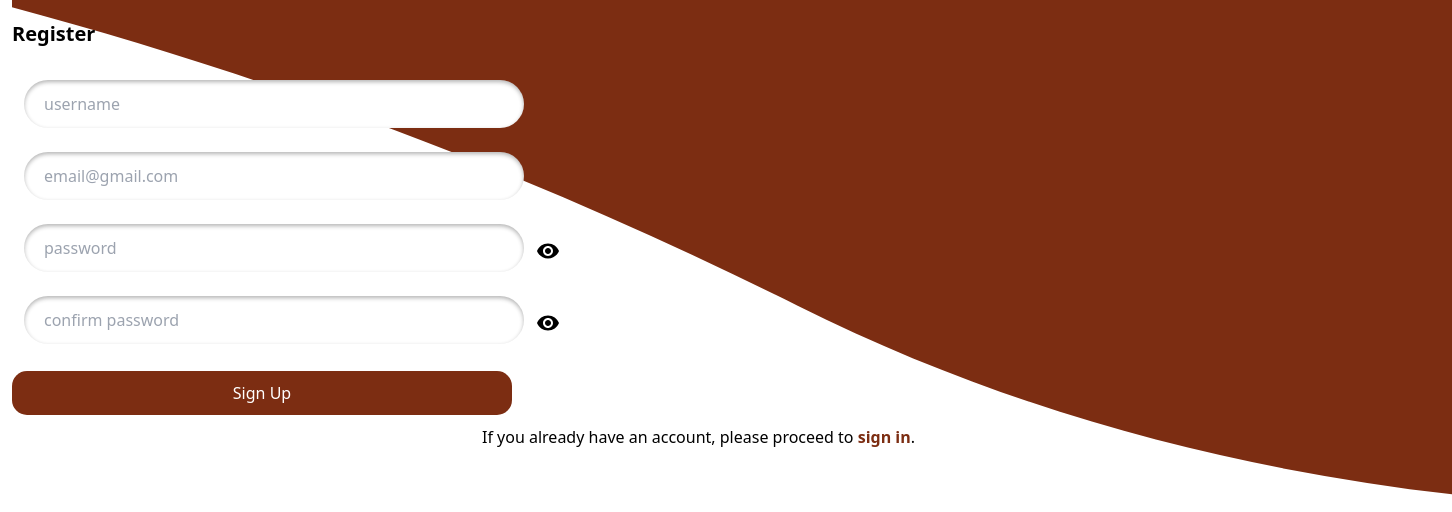
Signup page › can render error message if receive error response from backend
Note: type in valid data and click submit button
Type "ji" into the field with placeholder "username" at (274, 104), box [24,80,524,128]
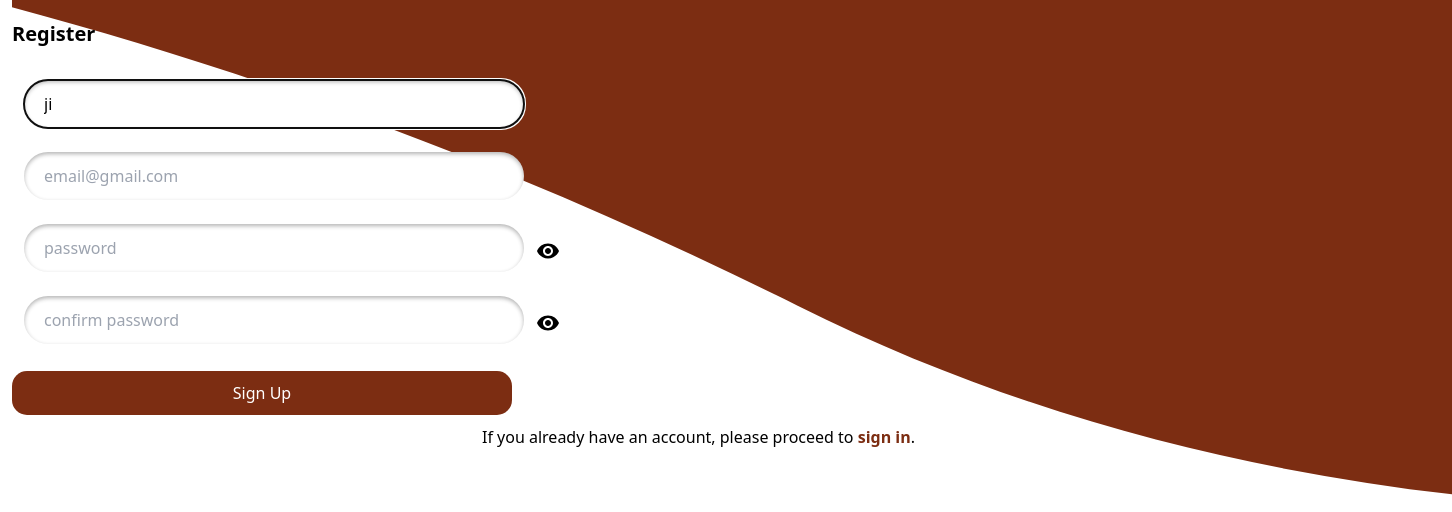
Type "ji@gmail.com" into the field with placeholder "email@gmail.com" at (274, 176), box [24,152,524,200]
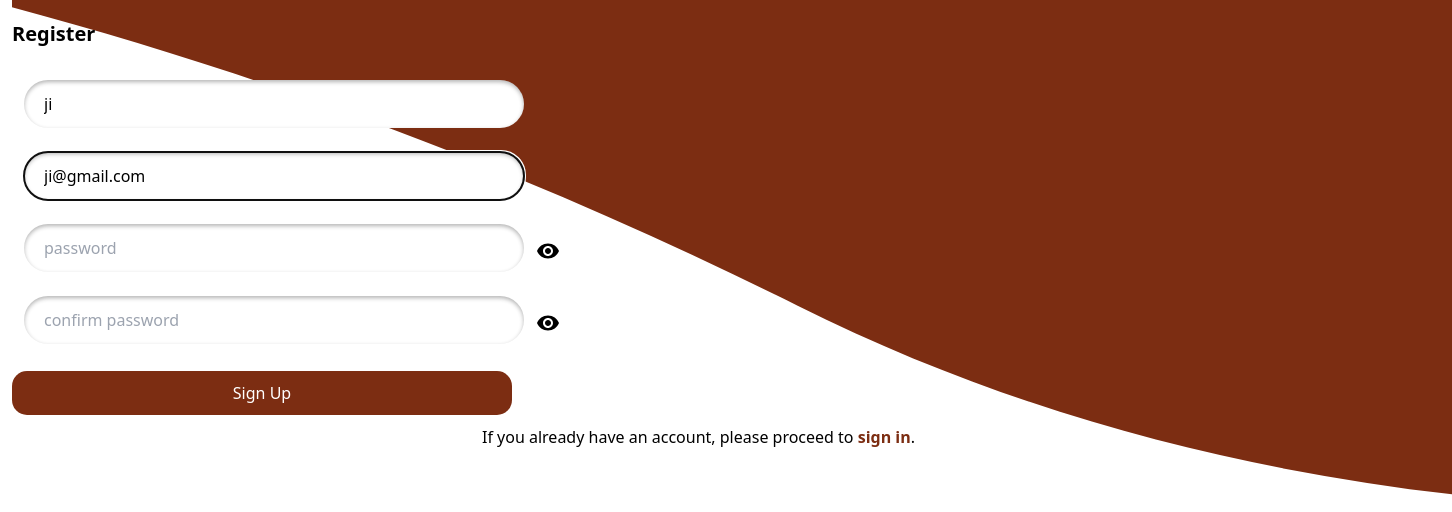
Type "123456aB" into the password field with placeholder "password" at (274, 248), box [24,224,524,272]
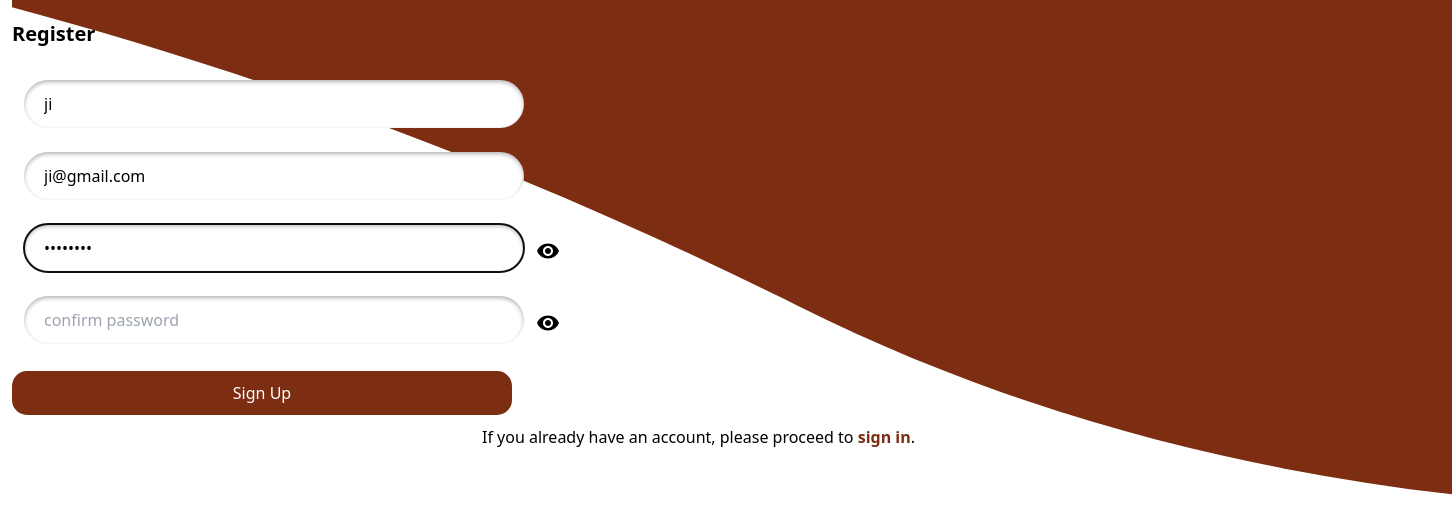
Type "123456aB" into the password field with placeholder "confirm password" at (274, 320), box [24,296,524,344]
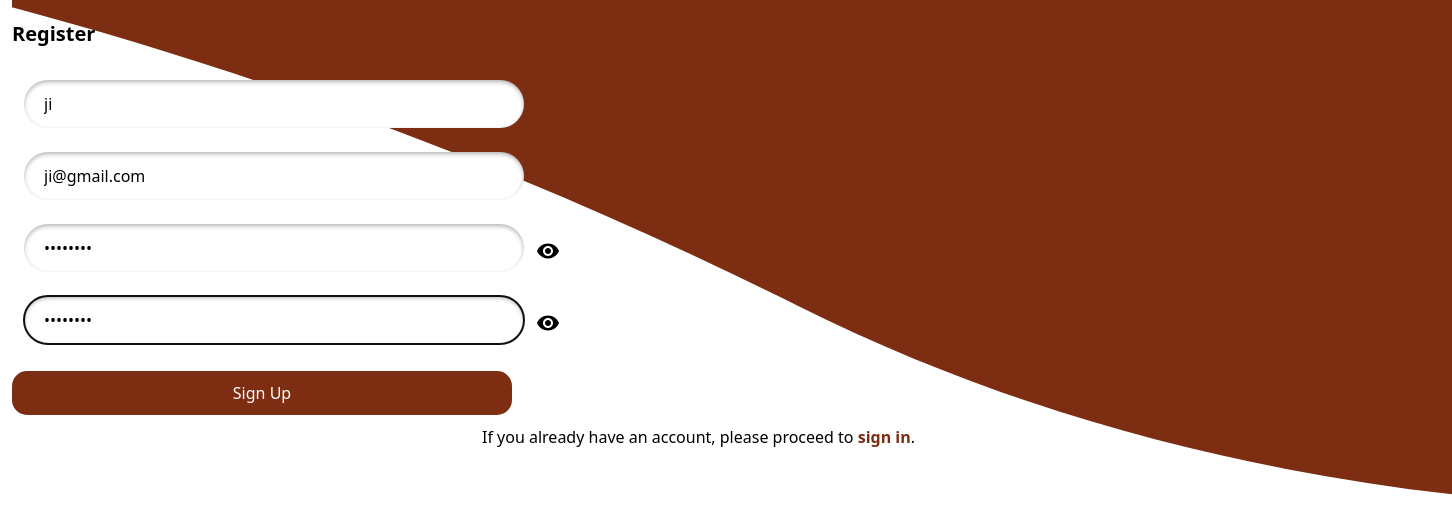
Click the button "Sign Up" at (262, 393), box [12,371,512,415]
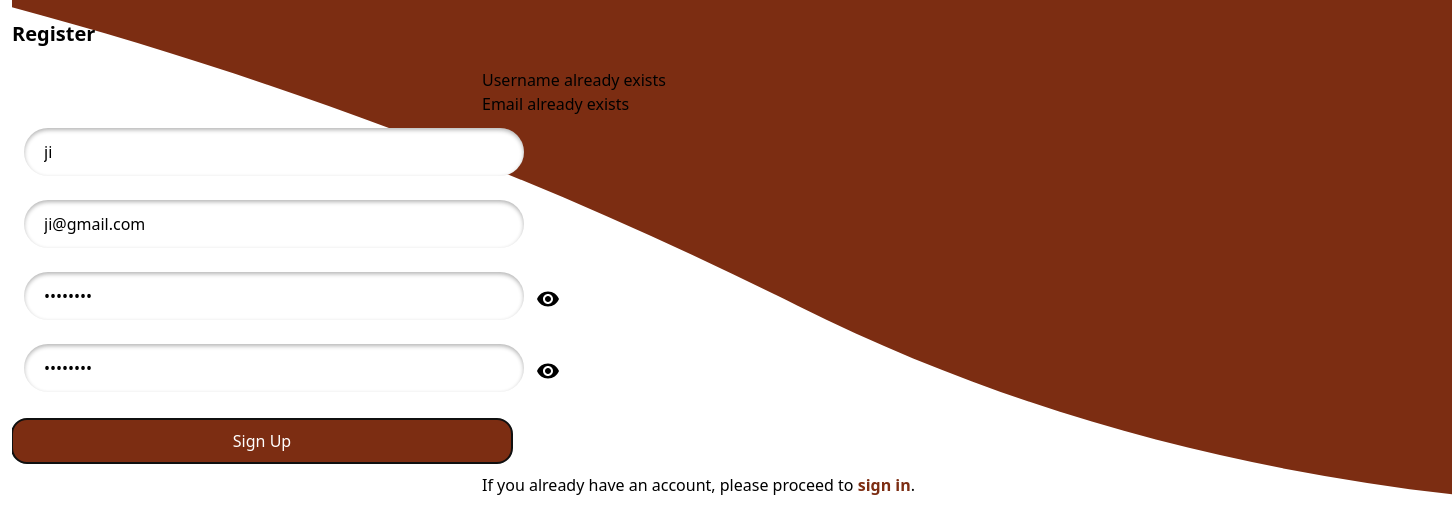
Check: the text "Username already exists" is shown, box [482,69,666,91]
Check: the text "Email already exists" is shown, box [482,93,629,115]
